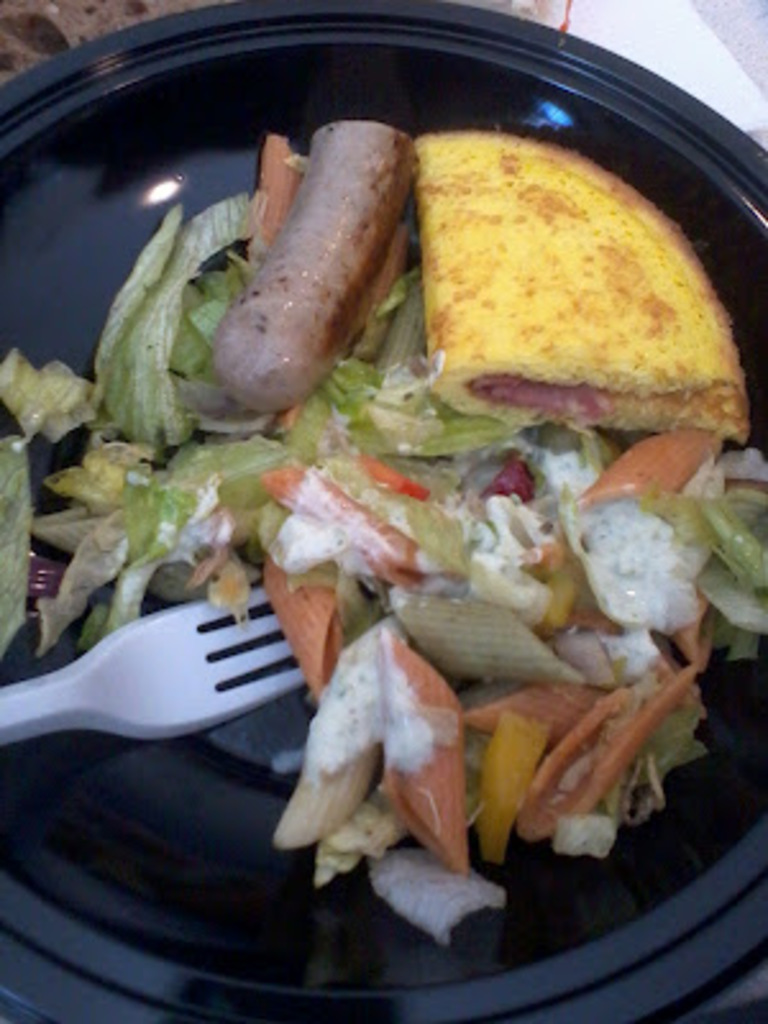sandwich: (420, 123, 748, 445)
